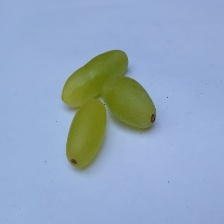grapes: (44, 25, 208, 210)
